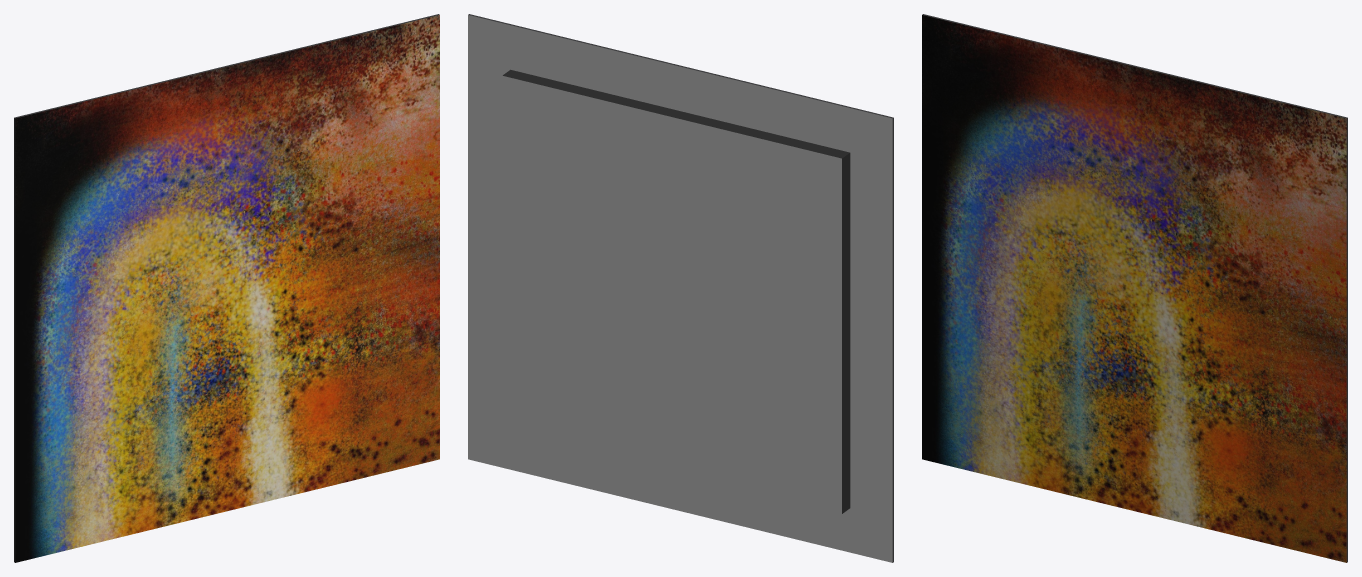
Rendered from va270_moyen_dibond.glb.
3 renders of one model, left to right at view 1: azimuth 30°, elevation 25°; view 2: azimuth 150°, elevation 25°; view 3: azimuth 330°, elevation 25°, orthographic.
Parts seen in each view (by area): view 1: va270_moyen_dibond; view 2: va270_moyen_dibond; view 3: va270_moyen_dibond.
Part boxes in pixels (bbox=[...]): va270_moyen_dibond: bbox=[14, 14, 439, 562]; va270_moyen_dibond: bbox=[468, 14, 893, 562]; va270_moyen_dibond: bbox=[922, 14, 1347, 562].
Size of the model in its own units: 0.6 by 0.6 by 0.023.
4 materials, 1 textured.
